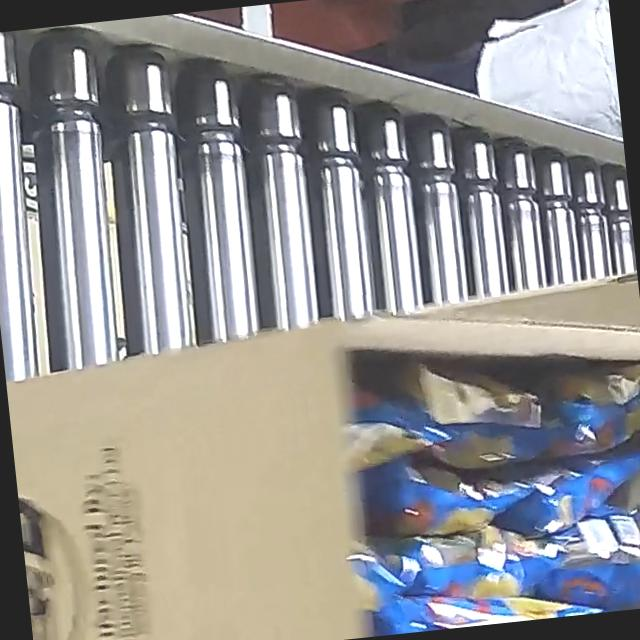paprika: (321, 331, 640, 638)
